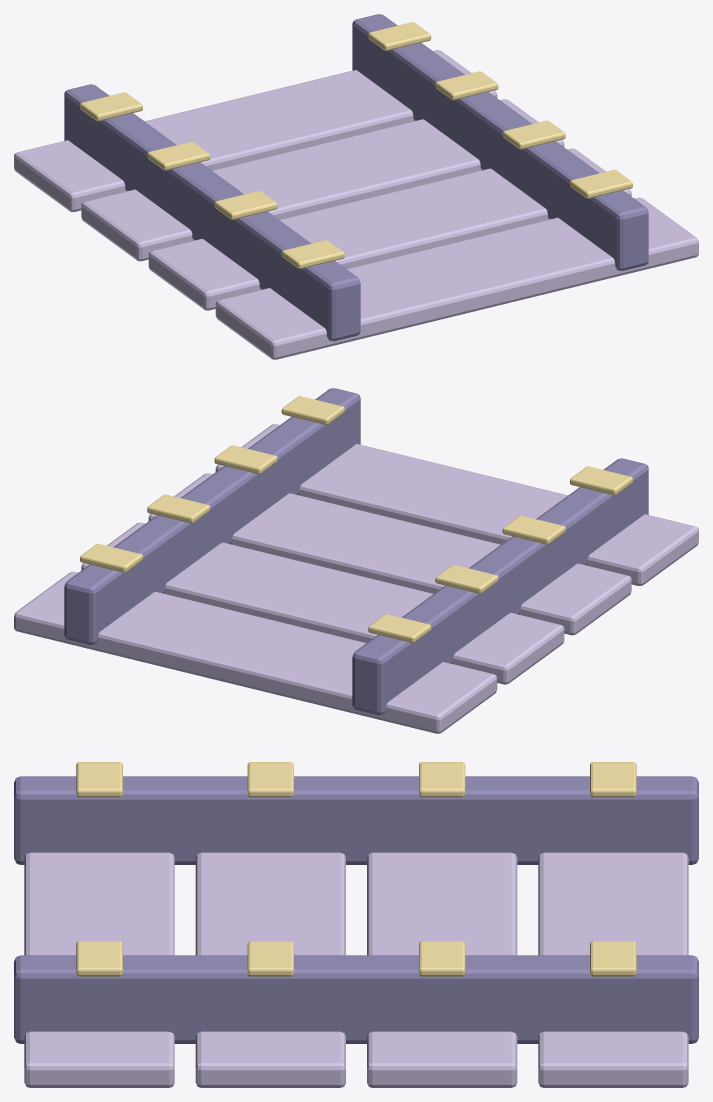
The model's file is track_straight.glb.
3 renders of one model, top to bottom at view 1: azimuth 30°, elevation 25°; view 2: azimuth 150°, elevation 25°; view 3: azimuth 270°, elevation 25°, orthographic. The views are drawn at different scales.
Parts seen in each view (by area): view 1: track_straight; view 2: track_straight; view 3: track_straight.
Part boxes in pixels (bbox=[...]): track_straight: bbox=[14, 14, 698, 359]; track_straight: bbox=[14, 388, 698, 733]; track_straight: bbox=[14, 762, 698, 1087].
Size of the model in its own units: 4.6 by 0.745 by 5.01.
